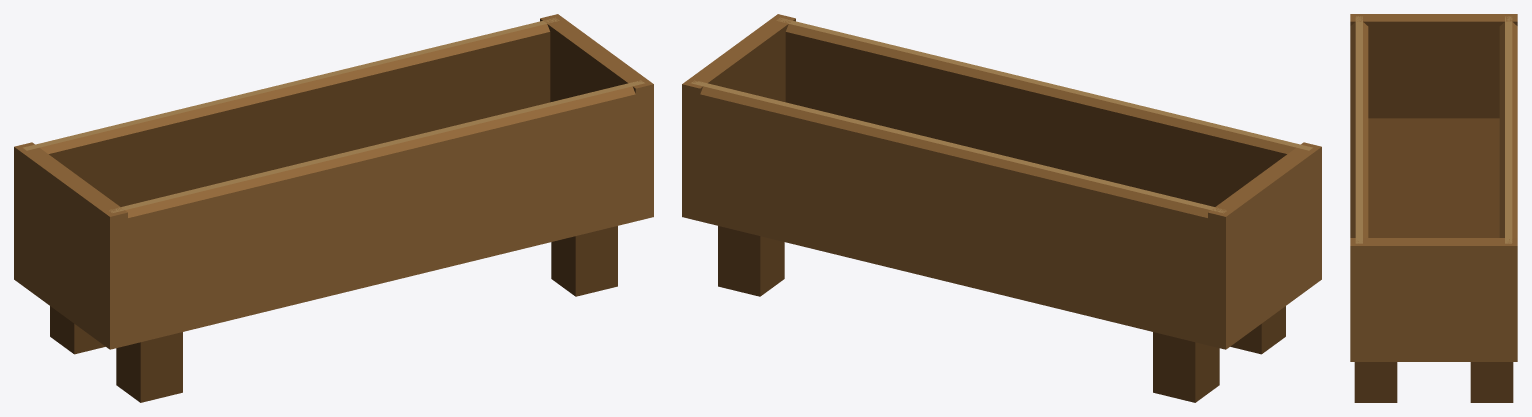
The model's file is trough.glb.
3 renders of one model, left to right at view 1: azimuth 30°, elevation 25°; view 2: azimuth 150°, elevation 25°; view 3: azimuth 270°, elevation 25°, orthographic. The views are drawn at different scales.
Visible parts, largest first — view 1: Trough; view 2: Trough; view 3: Trough.
Boxes of the visible parts, x1,y1,x2,y2 form: Trough: (14,14,653,402); Trough: (682,14,1321,402); Trough: (1350,14,1517,402).
Size of the model in its own units: 1.8 by 0.62 by 0.55.
